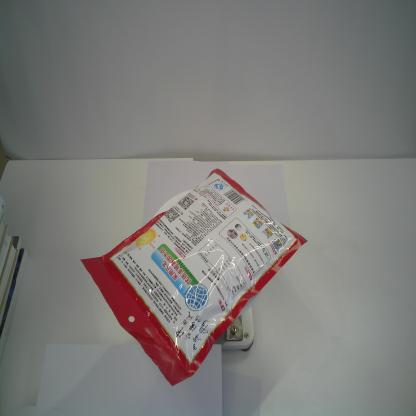Instant Drink: (78, 167, 308, 387)
